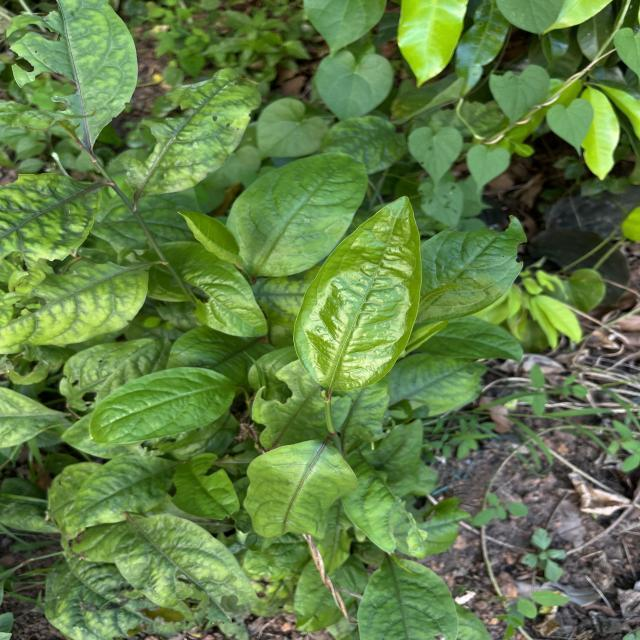Plumbago indica: (297, 196, 430, 410), (225, 150, 370, 278), (130, 67, 263, 201), (110, 510, 254, 626), (86, 365, 240, 448), (419, 214, 532, 326), (244, 439, 358, 543)
